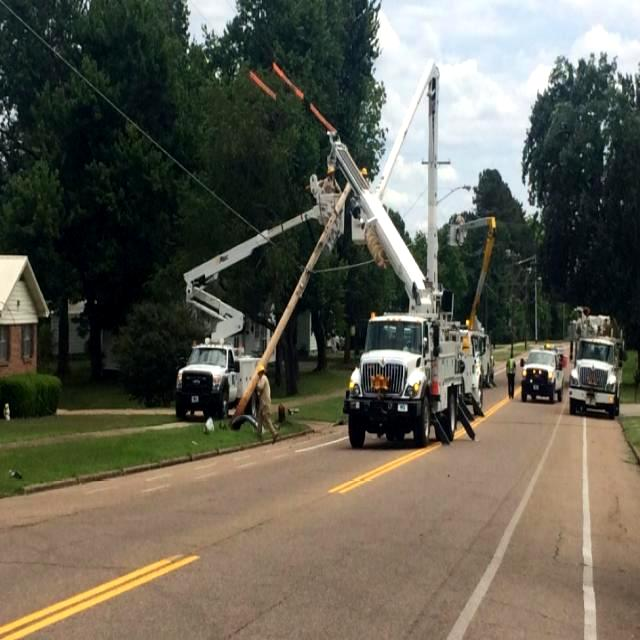Broken Pole: (229, 178, 352, 427)
